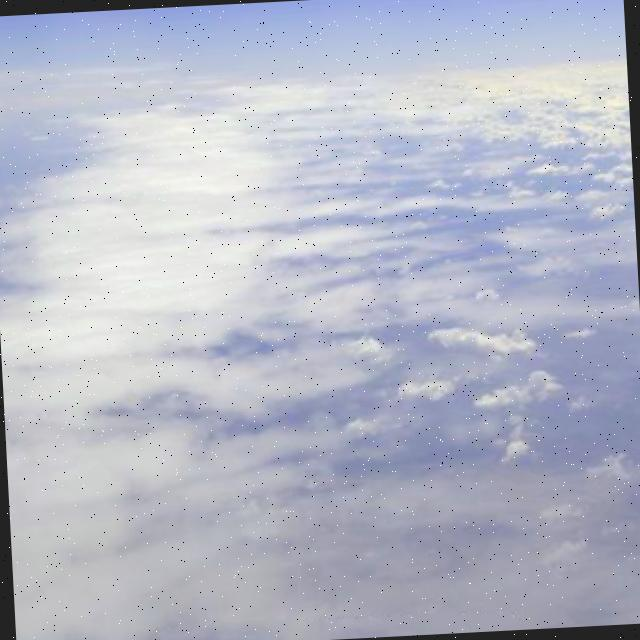Cu: (1, 49, 640, 523)
